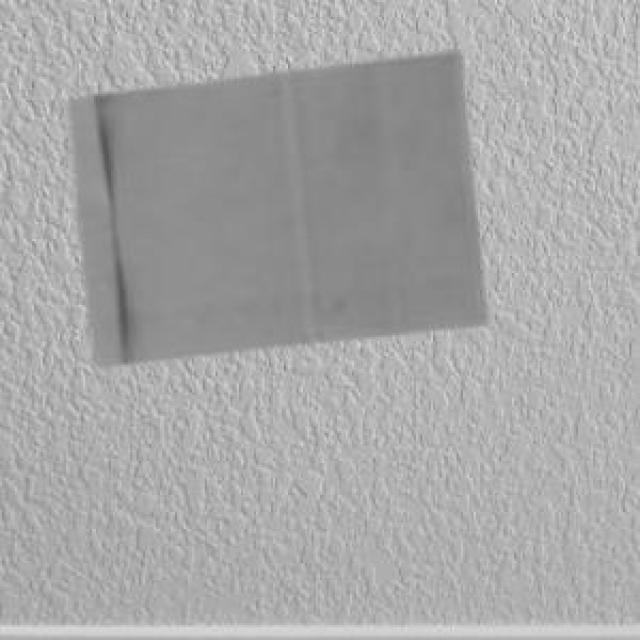paper: (64, 49, 482, 361)
